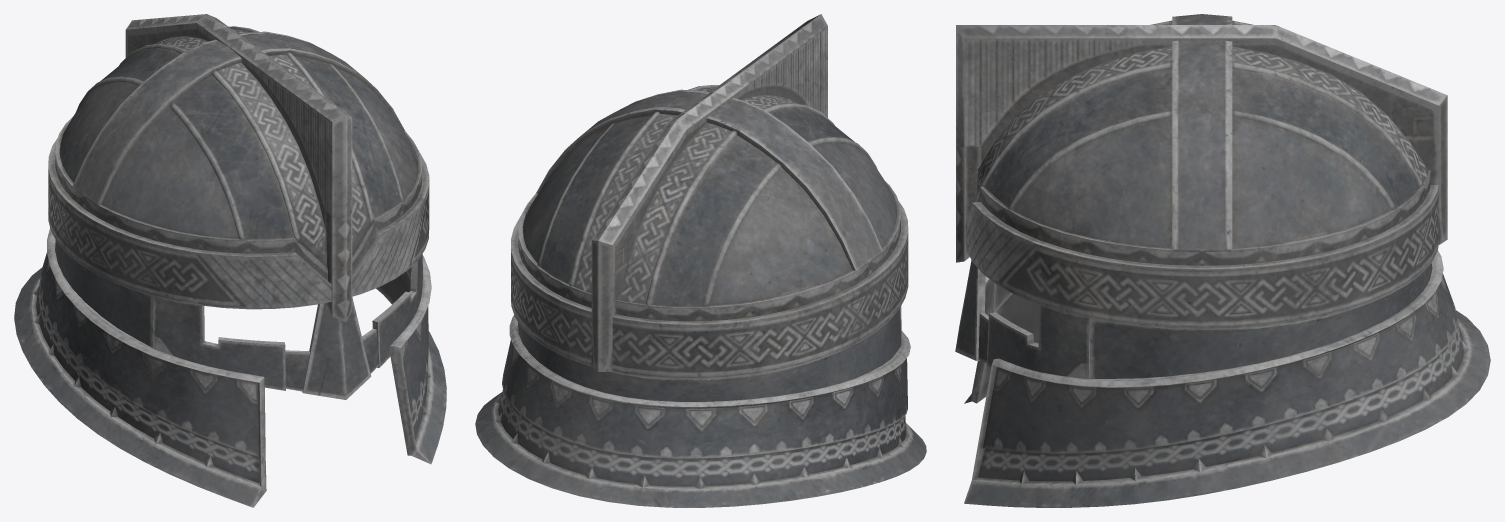
File: sk_dwarf_erebor_helmet_plate_heavy_b.fbx
3 views of the same model, side by side, from view 1: azimuth 30°, elevation 25°; view 2: azimuth 150°, elevation 25°; view 3: azimuth 270°, elevation 25° (orthographic). The views are drawn at different scales.
Parts seen in each view (by area): view 1: sk_dwarf_erebor_helmet_plate_heavy_b; view 2: sk_dwarf_erebor_helmet_plate_heavy_b; view 3: sk_dwarf_erebor_helmet_plate_heavy_b.
Part boxes in pixels (x1,y1,x2,y2): sk_dwarf_erebor_helmet_plate_heavy_b: [14, 14, 446, 507]; sk_dwarf_erebor_helmet_plate_heavy_b: [475, 14, 926, 507]; sk_dwarf_erebor_helmet_plate_heavy_b: [955, 14, 1490, 507].
Bounding box in the file's own units: 0.2865 × 0.3224 × 0.2848.
1 material, 1 textured.
